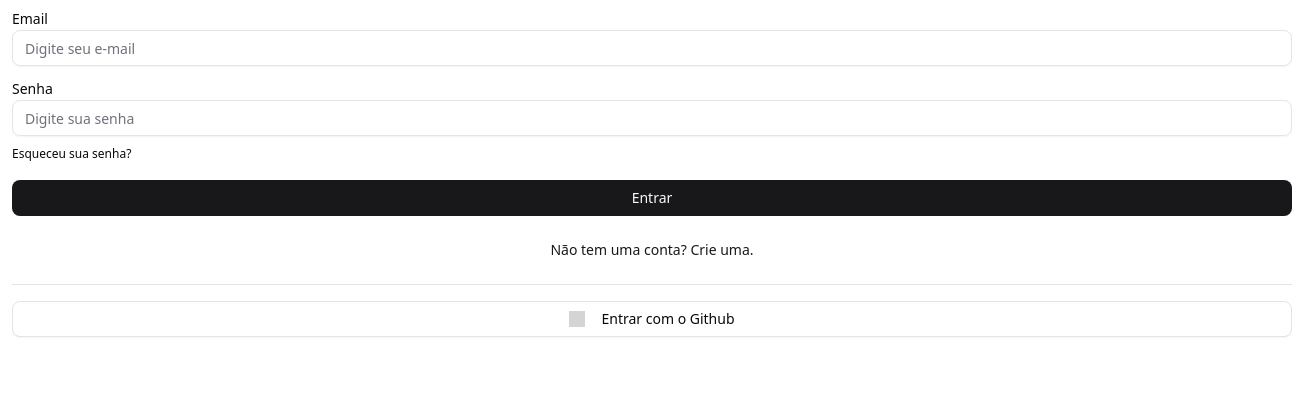
Test: <SignInForm /> › should show field validation errors
Click the button "Entrar": [652, 198] box [12, 180, 1292, 216]
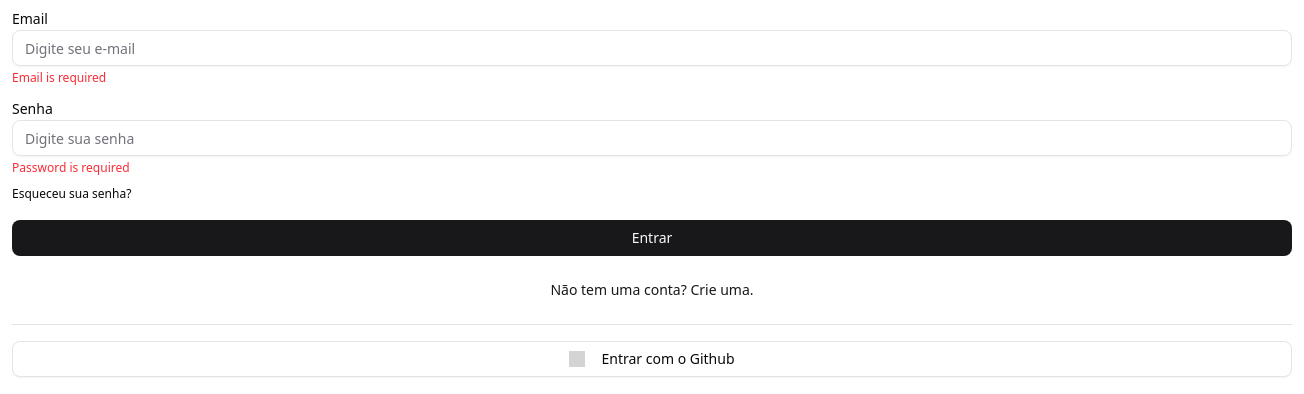
Check: the text "Email is required" is shown, box [12, 69, 106, 86]
Check: the text "Password is required" is shown, box [12, 159, 130, 176]
